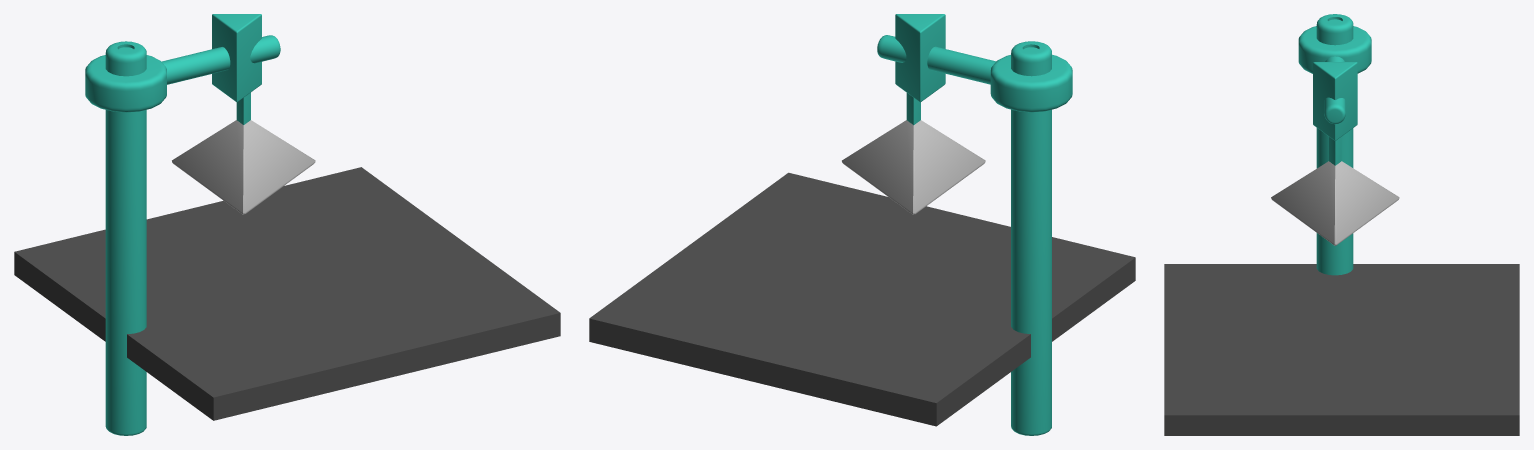
File: dough_cutter.FBX
The picture shows the model from 3 angles, left to right: view 1: azimuth 30°, elevation 25°; view 2: azimuth 150°, elevation 25°; view 3: azimuth 270°, elevation 25°; orthographic projection. The views are drawn at different scales.
Parts seen in each view (by area): view 1: Base, Dough_cuterr_03, Dough_cuterr_04, Dough_cuterr_02, Dough_cuterr_05, Dough_cuterr_01; view 2: Base, Dough_cuterr_03, Dough_cuterr_04, Dough_cuterr_05, Dough_cuterr_02, Dough_cuterr_01; view 3: Base, Dough_cuterr_04, Dough_cuterr_03, Dough_cuterr_05, Dough_cuterr_02, Dough_cuterr_01.
Boxes of the visible parts, bbox=[...] form: Base: bbox=[14, 167, 560, 420]; Dough_cuterr_03: bbox=[105, 41, 146, 435]; Dough_cuterr_04: bbox=[172, 120, 315, 214]; Dough_cuterr_02: bbox=[85, 55, 166, 112]; Dough_cuterr_05: bbox=[212, 14, 261, 102]; Dough_cuterr_01: bbox=[162, 35, 280, 84]; Base: bbox=[589, 172, 1135, 426]; Dough_cuterr_03: bbox=[1011, 41, 1051, 435]; Dough_cuterr_04: bbox=[842, 120, 985, 214]; Dough_cuterr_05: bbox=[895, 14, 945, 102]; Dough_cuterr_02: bbox=[990, 54, 1072, 112]; Dough_cuterr_01: bbox=[877, 35, 995, 84]; Base: bbox=[1164, 264, 1519, 435]; Dough_cuterr_04: bbox=[1271, 161, 1399, 245]; Dough_cuterr_03: bbox=[1316, 14, 1353, 275]; Dough_cuterr_05: bbox=[1313, 62, 1357, 140]; Dough_cuterr_02: bbox=[1298, 26, 1371, 73]; Dough_cuterr_01: bbox=[1324, 56, 1345, 124].
Size of the model in its own units: 511 by 497 by 471.
